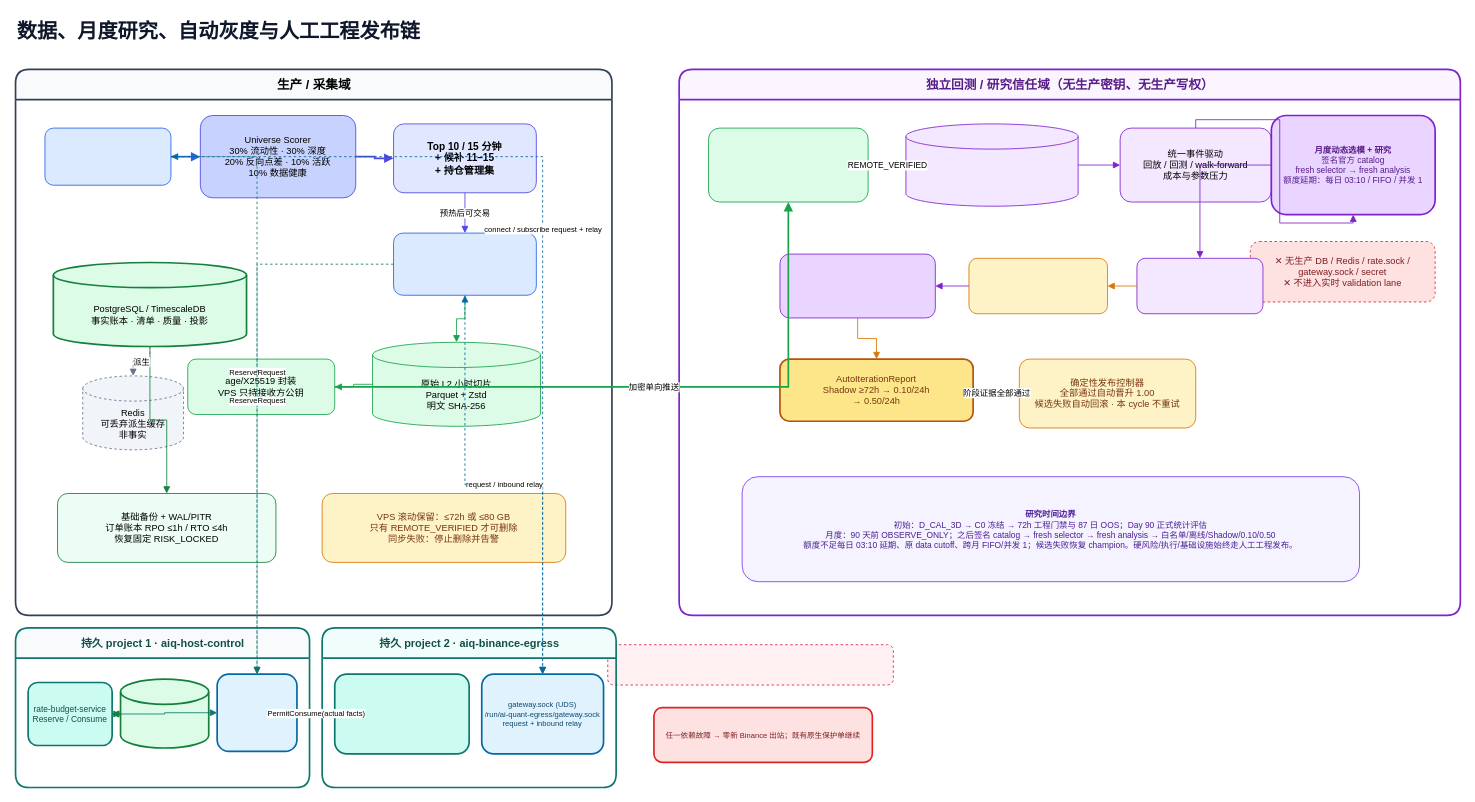
Image size: 1475x802. Some labels were removed from this diagram. Here are the shapes that lost their labels. From the top down, the centre of each, then its label:
the point at 107,156: 全部有效 USDT 永续 轻量排名数据
the point at 788,164: SSH/SFTP 接收端 解密 + 明文 SHA-256 签名逐对象回执
the point at 991,164: 只读数据湖 全市场轻量 + 历史池快照 90 天 L2 / manifest
the point at 464,263: 完整深度 + 成交 订单簿重建 / 特征 / 决策
the point at 857,285: 不可变 StrategyPackage 代码 / 参数 / 数据 / 证据 hash
the point at 1038,285: 字段白名单 + 离线门禁 非白名单转人工工程审查
the point at 1199,285: 白名单 challenger 或 EngineeringProposal
the point at 750,664: 研究机无生产写面；只由确定性发布控制器消费签名工件
the point at 164,713: PostgreSQL aiq_host_rate_control
the point at 256,712: rate.sock (UDS) /run/ai-quant-rate/rate.sock
the point at 401,713: 唯一 binance-egress-gateway actual facts → PermitConsume 无 secret / 不签名
